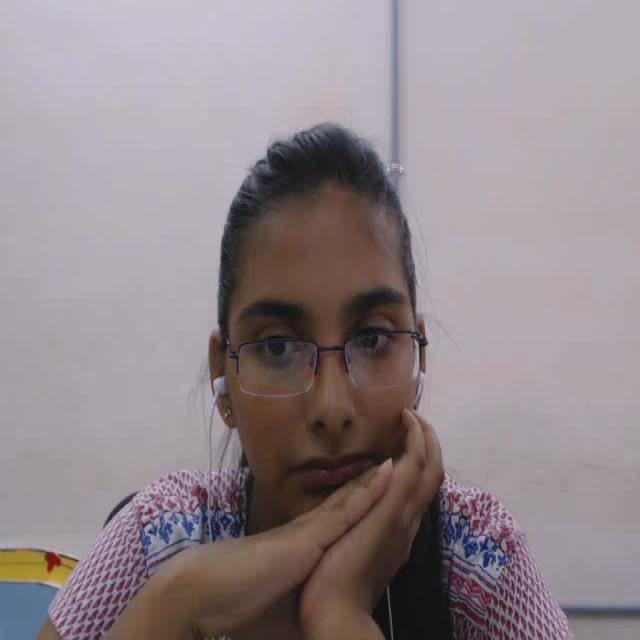Bored: (188, 88, 473, 579)
